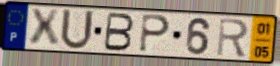6: (185, 16, 213, 56)
B: (102, 11, 136, 53)
P: (138, 13, 172, 55)
R: (215, 17, 251, 59)
U: (58, 7, 96, 52)
X: (29, 8, 62, 48)
